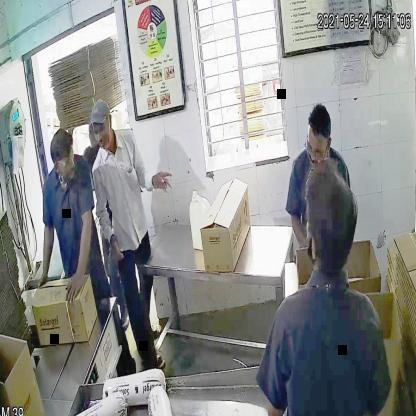no_goggles: (90, 124, 112, 139)
